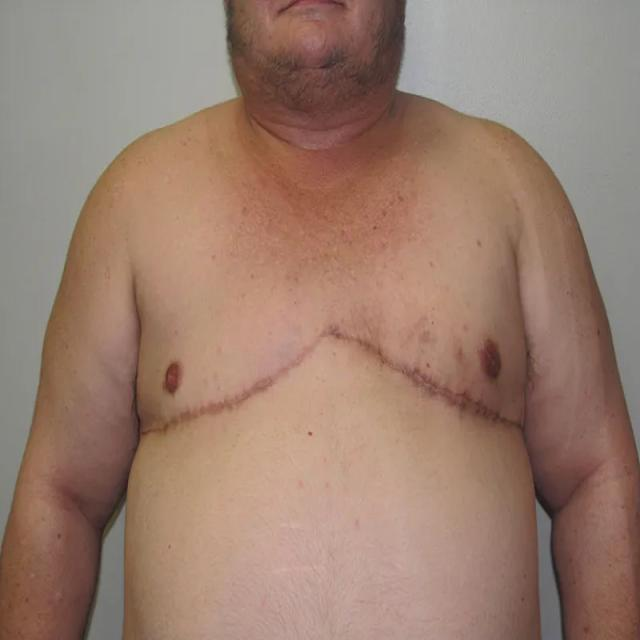Seno herido: (326, 256, 531, 466), (132, 256, 324, 468)
